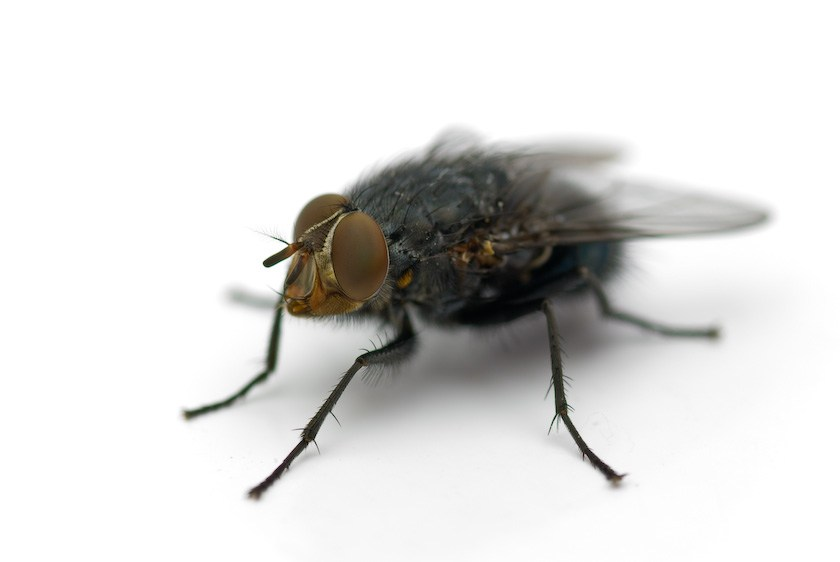phorid fly: (152, 81, 788, 535)
